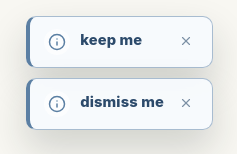
Scenario: ToastContainer › only dismisses the clicked toast when multiple are visible
Click the button named "关闭通知": {"x": 186, "y": 103} [174,91,198,115]
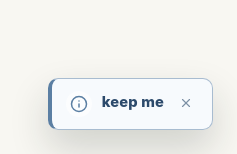
expect the text "keep me" is shown: met, box [102,91,164,113]
expect the text "dismiss me" is gone: met
